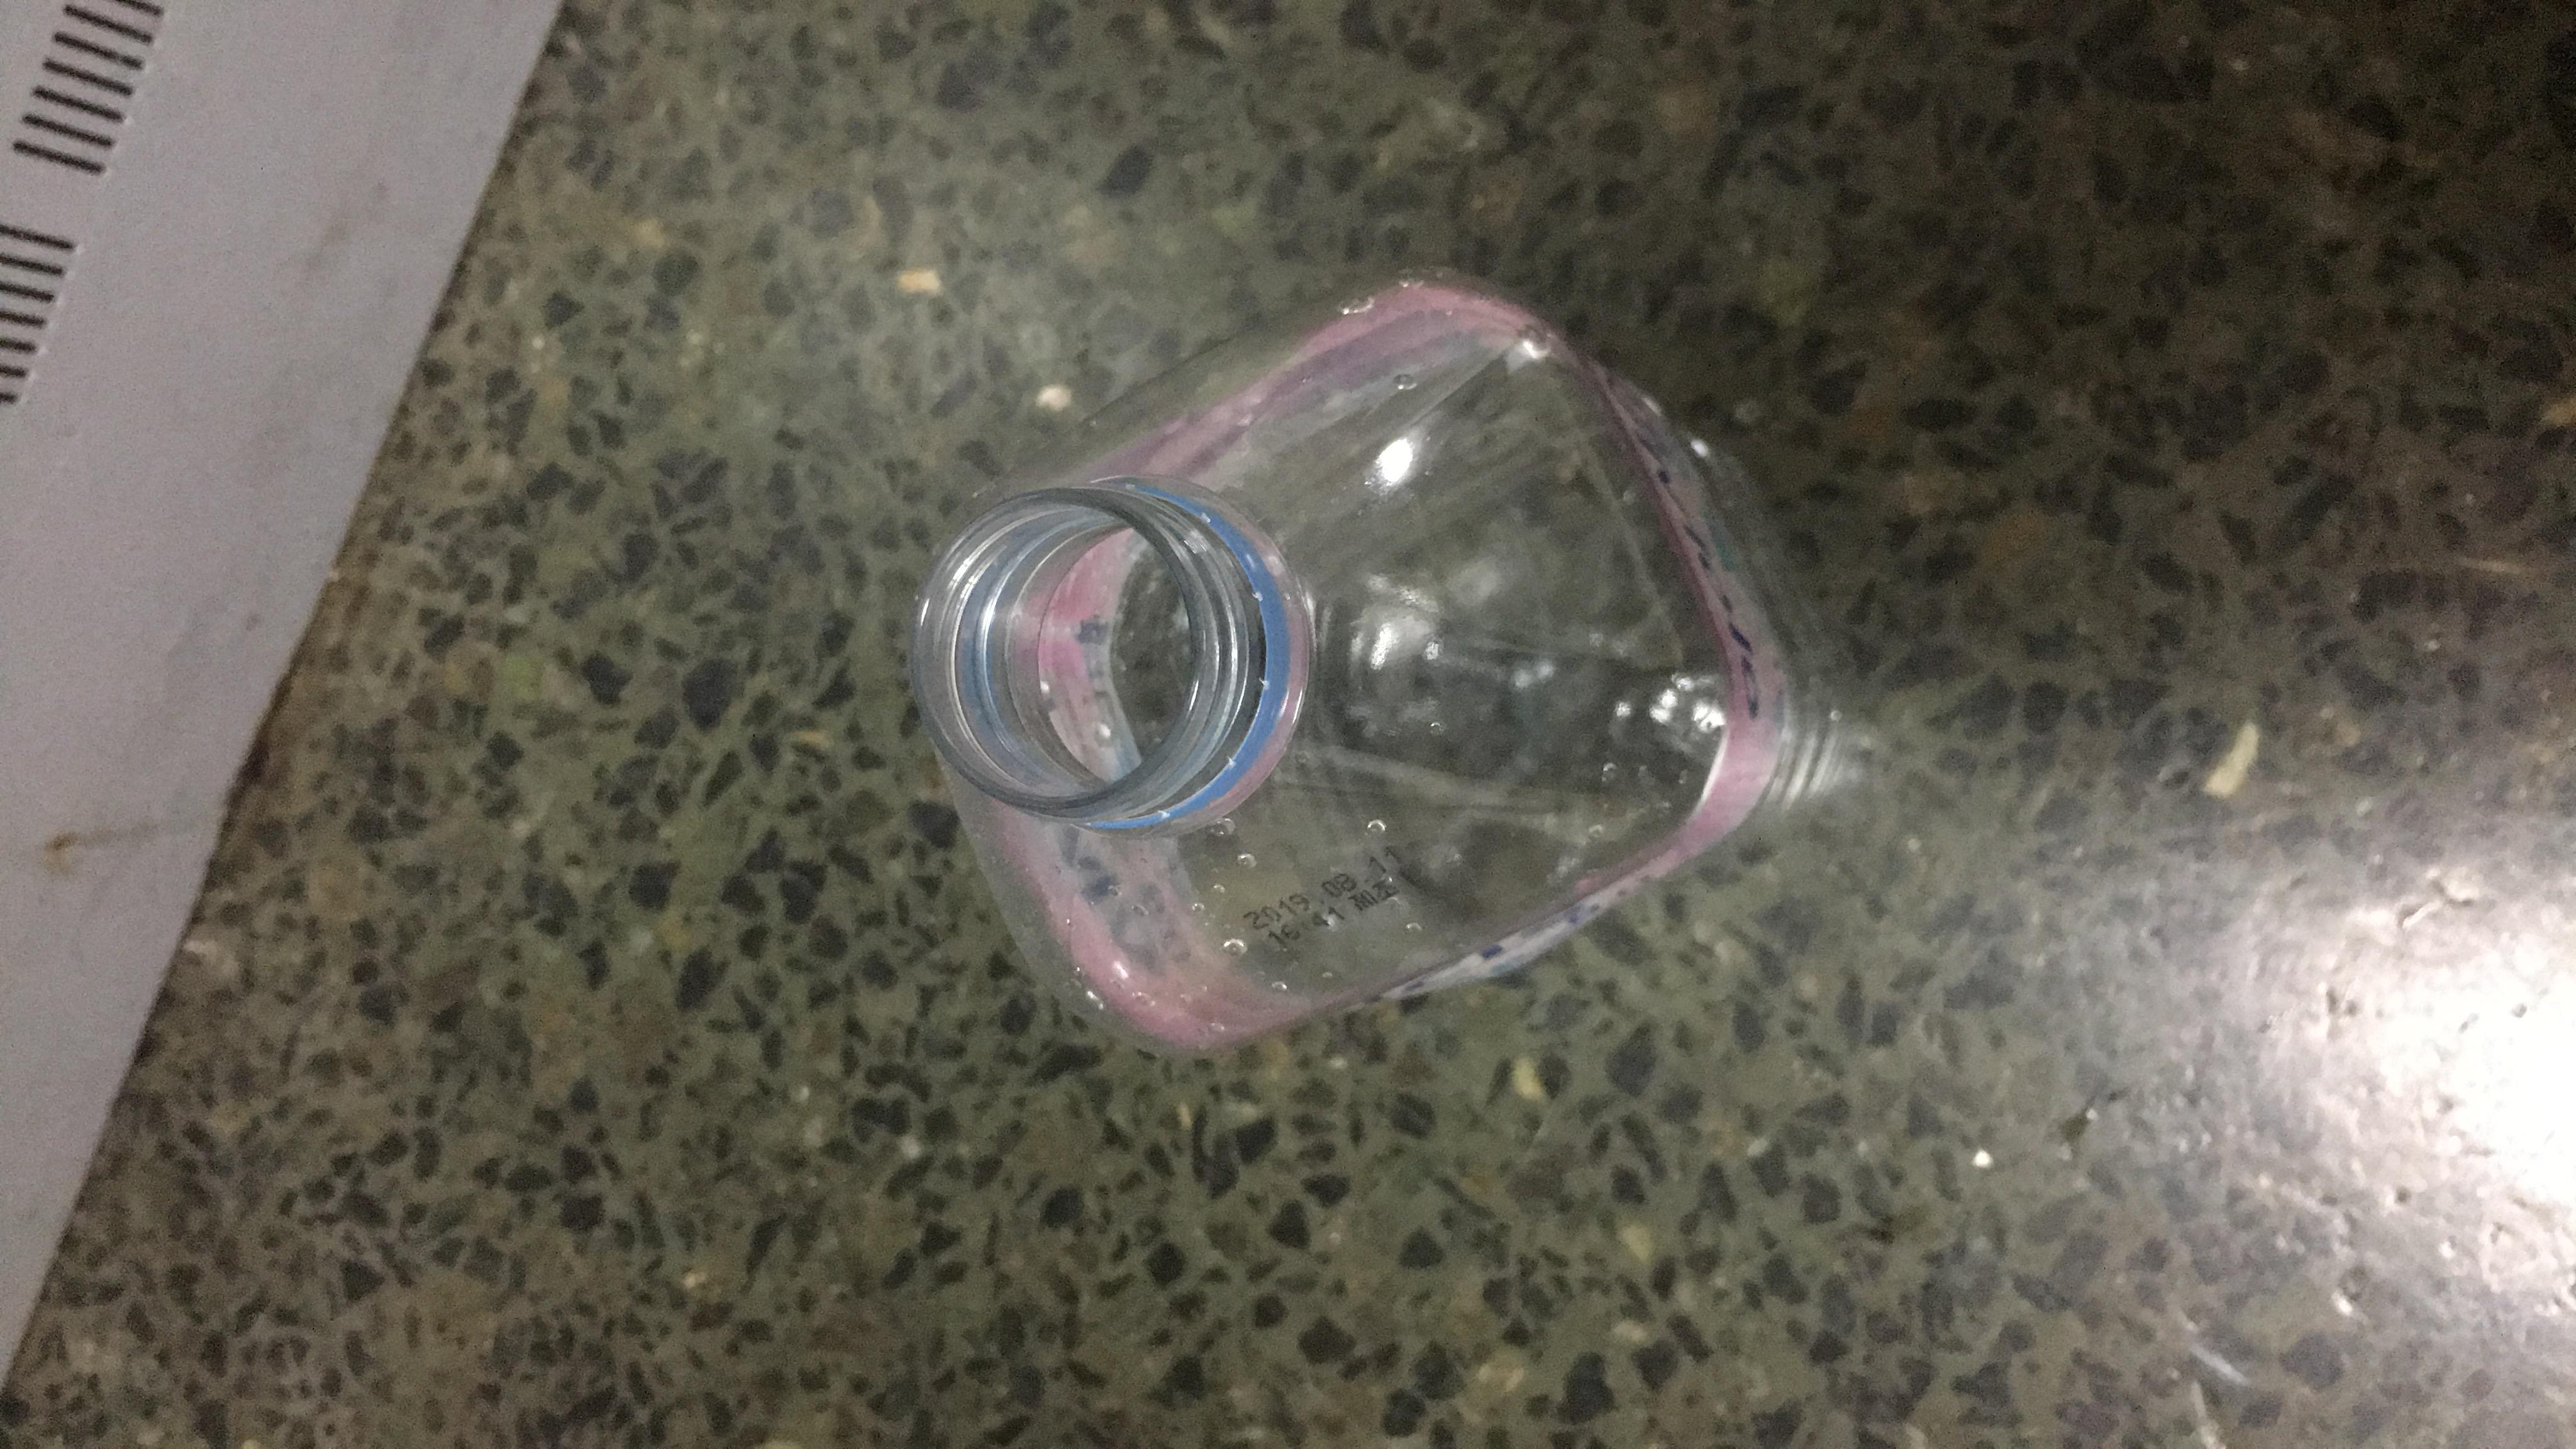bottle: (734, 451, 2128, 1113)
